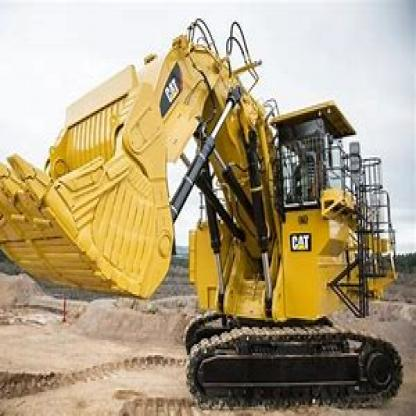excavator: (4, 19, 411, 408)
